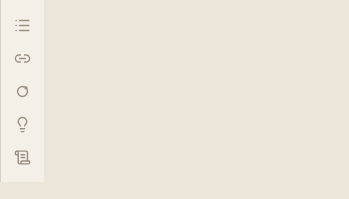
it: InspectorRail (editor-chrome) › тоггл «Связи» открывает панель с существующим BacklinksBar
The width and height of the screenshot is (349, 199).
Click the button named "Связи".
click(22, 58)  # box [8,43,38,73]
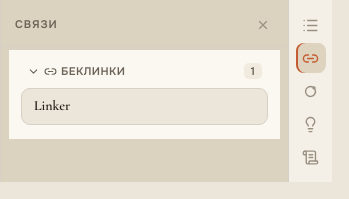
Expected: the text "Linker" is shown, [34,98,70,115]
